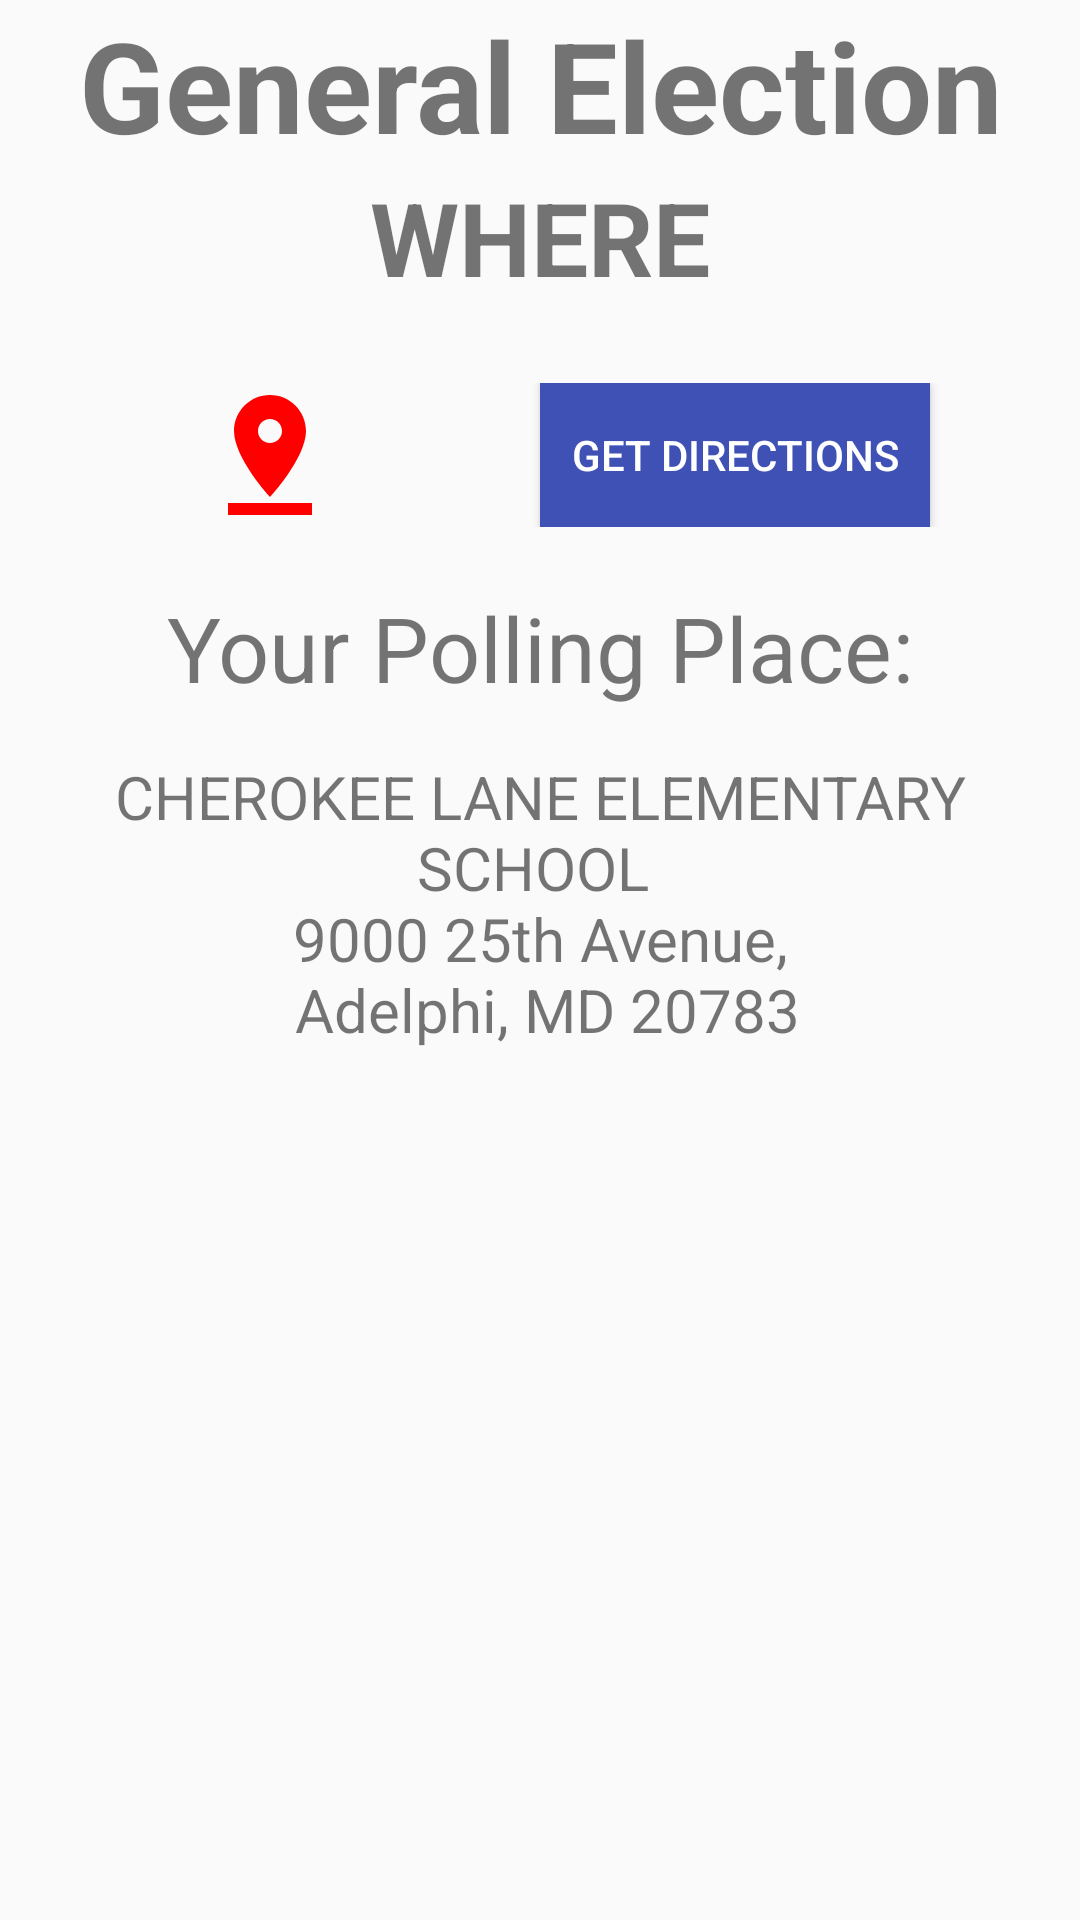

Point at icon controls on the screen. Image size 1080*1920, points as [x,y].
pin drop: [270,455]
